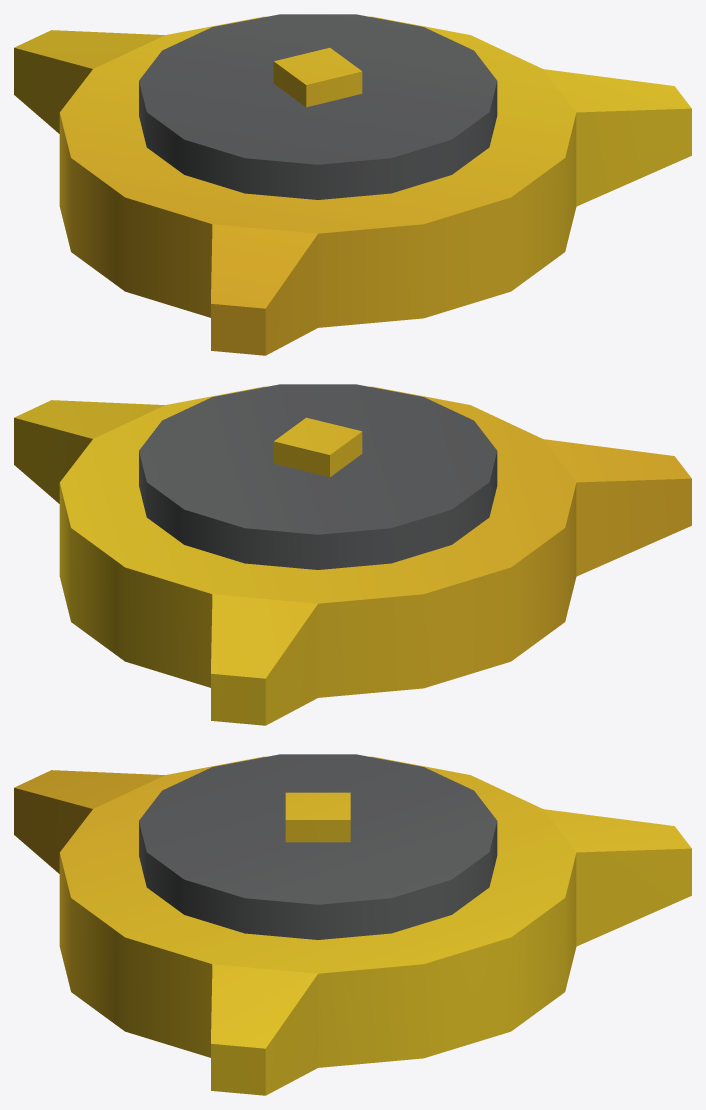
Rendered from Mine.fbx.
3 renders of one model, top to bottom at view 1: azimuth 30°, elevation 25°; view 2: azimuth 150°, elevation 25°; view 3: azimuth 270°, elevation 25°, orthographic.
Parts seen in each view (by area): view 1: Mine; view 2: Mine; view 3: Mine.
Part boxes in pixels (left/top/right/bottom): Mine: left=14, top=14, right=691, bottom=355; Mine: left=14, top=384, right=691, bottom=725; Mine: left=14, top=754, right=691, bottom=1095.
Bounding box in the file's own units: 92.83 × 23.58 × 95.48.
